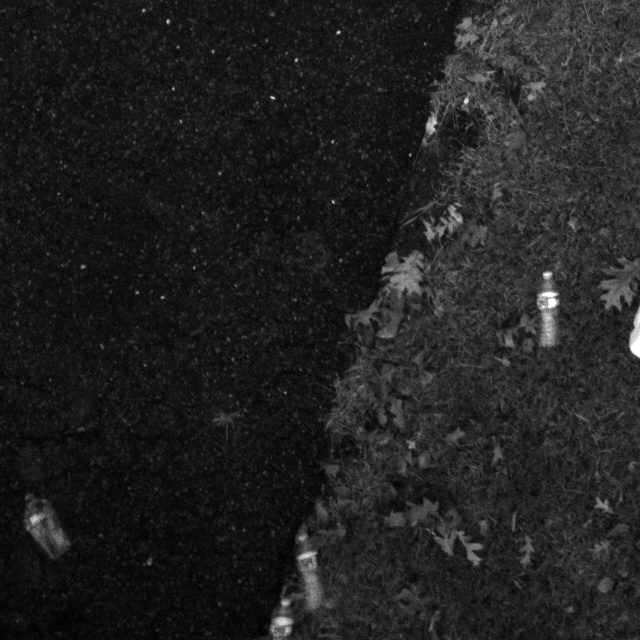bottle: (17, 484, 73, 573), (528, 258, 570, 358), (288, 527, 328, 618)
